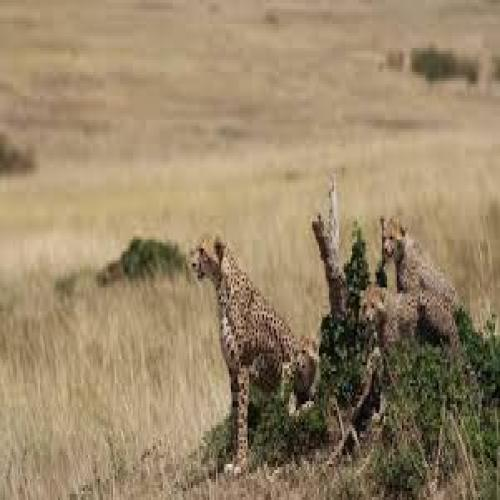cheetah-endangered: (190, 230, 296, 482), (378, 208, 463, 322), (356, 285, 462, 371), (282, 322, 326, 424)
